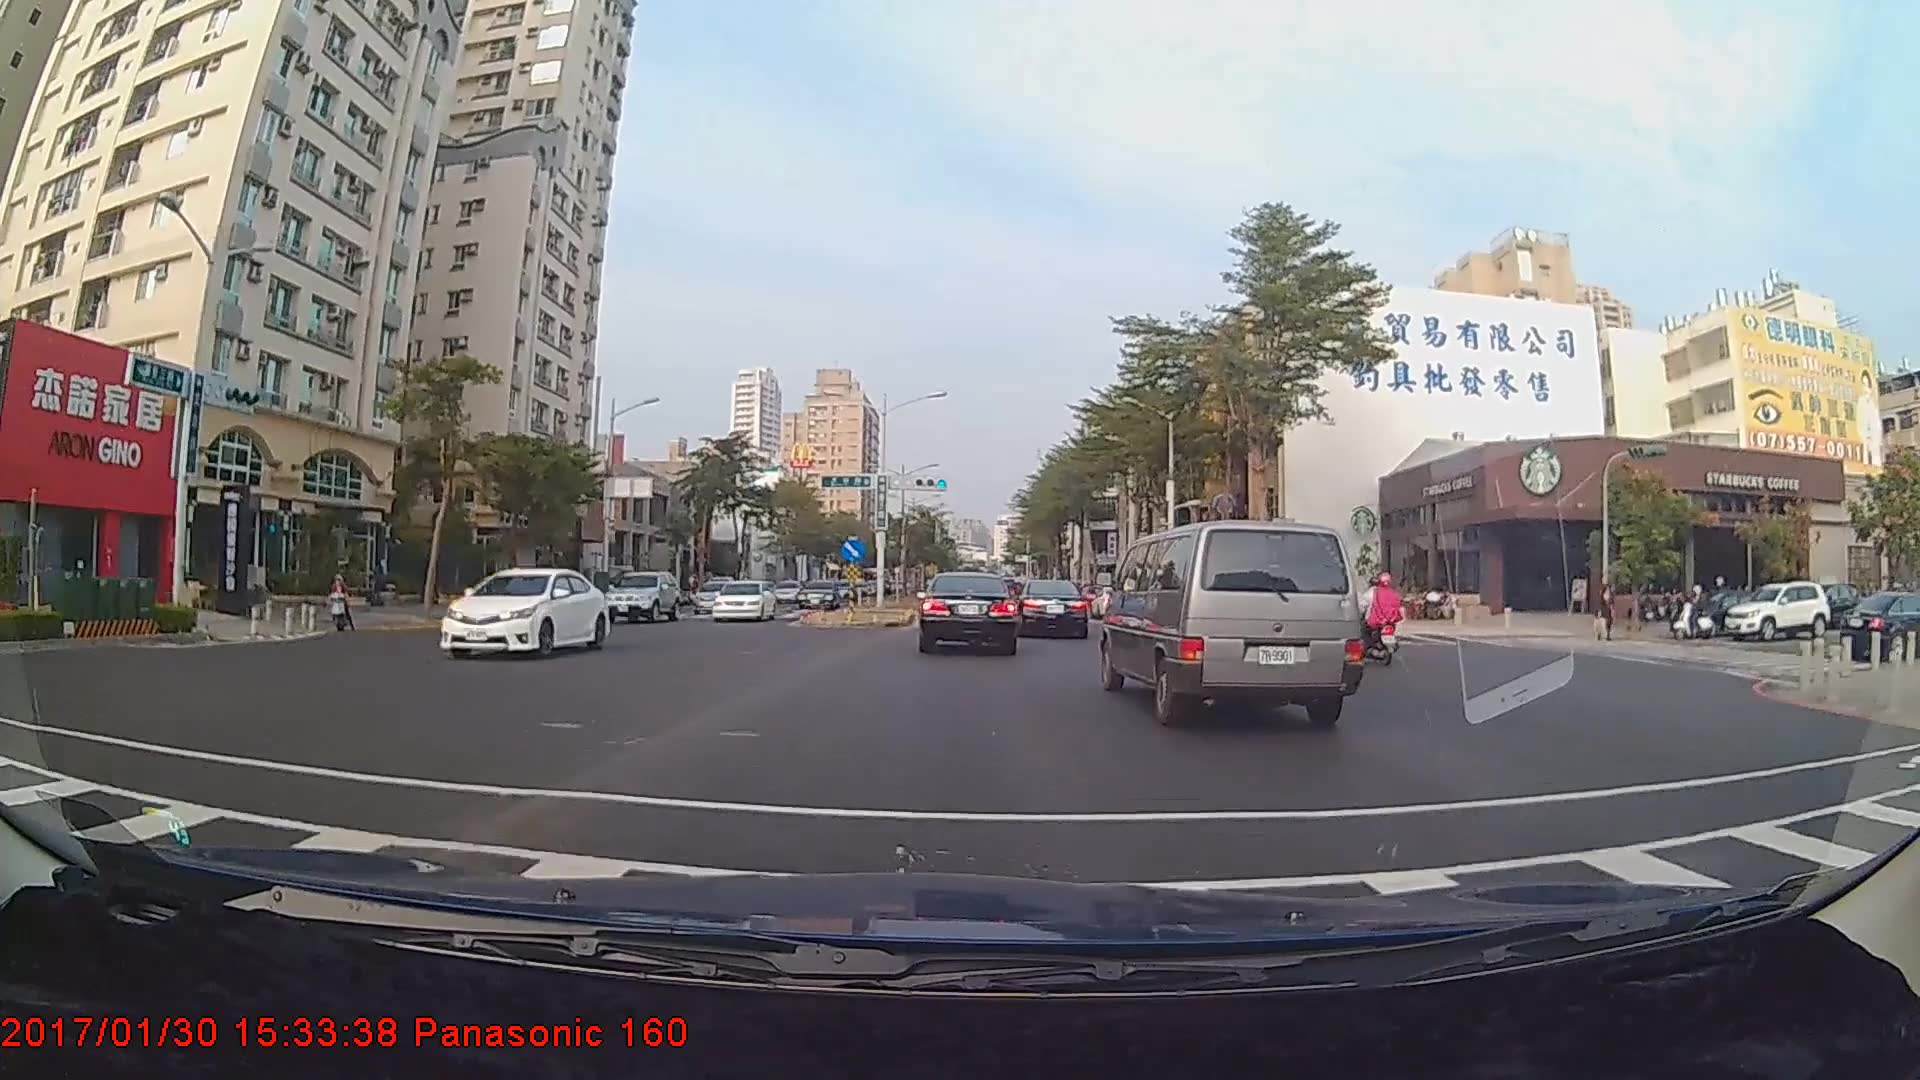pedestrian: (1595, 582, 1617, 646)
rider: (1671, 576, 1720, 640)
vehicle: (1102, 515, 1358, 727), (438, 566, 607, 652), (916, 571, 1020, 655), (1721, 583, 1835, 641), (1019, 578, 1089, 638), (601, 571, 681, 624), (710, 578, 775, 622), (795, 578, 841, 609)
